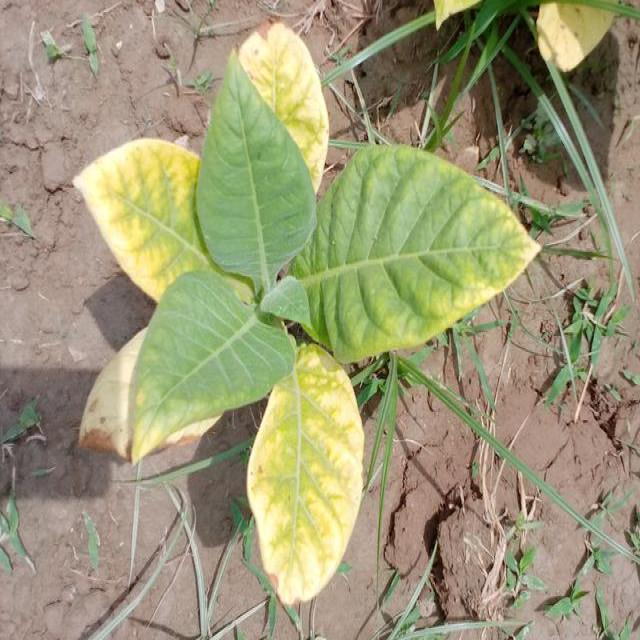crop: (70, 56, 524, 640)
